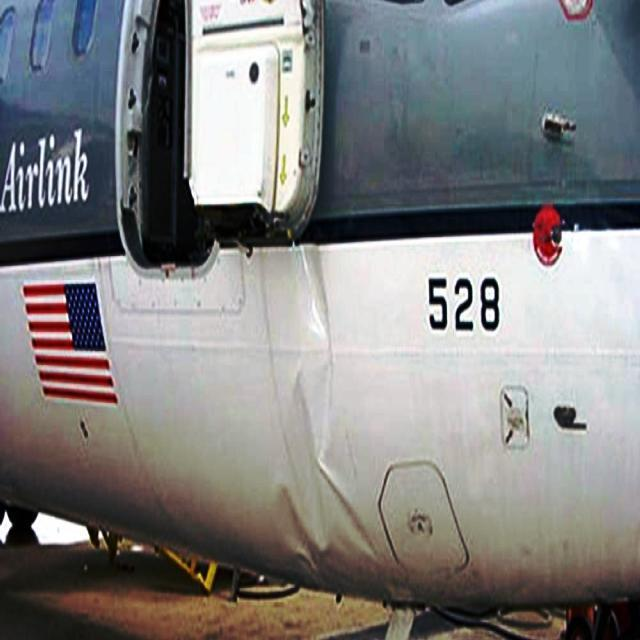dent: (274, 245, 379, 568)
